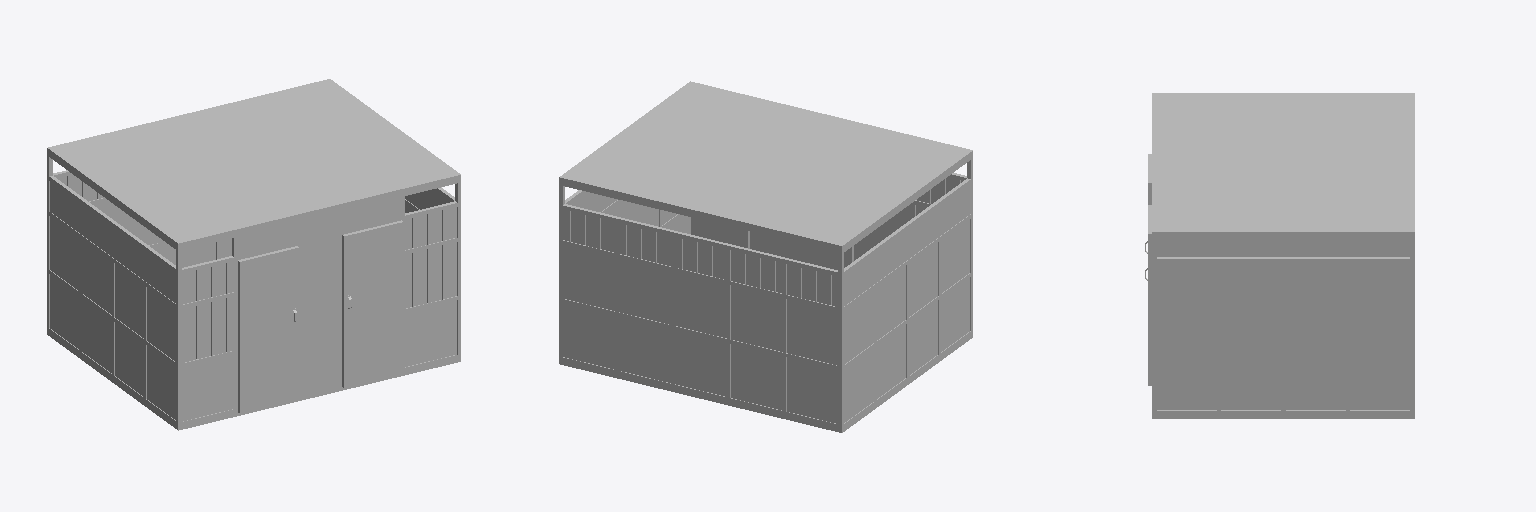
File: separate3.obj
3 renders of one model, left to right at view 1: azimuth 30°, elevation 25°; view 2: azimuth 150°, elevation 25°; view 3: azimuth 270°, elevation 25°, orthographic.
Parts seen in each view (by area): view 1: Mesh15 Group15 Model, Mesh42 Group42 Model, Mesh43 Group43 Model, Mesh44 Group44 Model, Mesh31 Group31 Model, Mesh8 Group8 Model, Mesh41 Group41 Model, Mesh12 Group12 Model, Mesh2 Group2 Model, Mesh49 Group49 Model, Mesh1 Group1 Model, Mesh51 Group51 Model (+11 smaller); view 2: Mesh15 Group15 Model, Mesh31 Group31 Model, Mesh6 Group6 Model, Mesh5 Group5 Model, Mesh7 Group7 Model, Mesh14 Group14 Model, Mesh4 Group4 Model, Mesh21 Group21 Model, Mesh23 Group23 Model, Mesh20 Group20 Model, Mesh22 Group22 Model, Mesh19 Group19 Model (+18 smaller); view 3: Mesh15 Group15 Model, Mesh40 Group40 Model, Mesh10 Group10 Model, Mesh11 Group11 Model, Mesh9 Group9 Model, Mesh53 Group53 Model, Mesh17 Group17 Model, Mesh24 Group24 Model, Mesh18 Group18 Model, Mesh54 Group54 Model, Mesh38 Group38 Model, Mesh51 Group51 Model (+6 smaller).
Boxes of the visible parts, box(x1,y1,x2,y2) form: Mesh15 Group15 Model: box(47, 79, 460, 247); Mesh42 Group42 Model: box(238, 246, 299, 413); Mesh43 Group43 Model: box(342, 220, 403, 387); Mesh44 Group44 Model: box(298, 235, 341, 396); Mesh31 Group31 Model: box(50, 181, 175, 302); Mesh8 Group8 Model: box(182, 350, 237, 425); Mesh41 Group41 Model: box(232, 196, 404, 256); Mesh12 Group12 Model: box(404, 296, 457, 371); Mesh2 Group2 Model: box(144, 340, 181, 426); Mesh49 Group49 Model: box(144, 281, 181, 363); Mesh1 Group1 Model: box(79, 292, 111, 377); Mesh51 Group51 Model: box(112, 316, 143, 400); Mesh15 Group15 Model: box(559, 81, 972, 249); Mesh31 Group31 Model: box(844, 184, 970, 305); Mesh6 Group6 Model: box(671, 325, 726, 400); Mesh5 Group5 Model: box(727, 339, 782, 414); Mesh7 Group7 Model: box(559, 298, 614, 373); Mesh14 Group14 Model: box(615, 312, 670, 387); Mesh4 Group4 Model: box(783, 353, 837, 427); Mesh21 Group21 Model: box(615, 253, 670, 324); Mesh23 Group23 Model: box(559, 240, 614, 310); Mesh20 Group20 Model: box(727, 281, 782, 351); Mesh22 Group22 Model: box(671, 267, 726, 337); Mesh19 Group19 Model: box(783, 294, 837, 365); Mesh15 Group15 Model: box(1152, 93, 1414, 234); Mesh40 Group40 Model: box(1157, 263, 1409, 293); Mesh10 Group10 Model: box(1281, 352, 1345, 414); Mesh11 Group11 Model: box(1152, 352, 1216, 414); Mesh9 Group9 Model: box(1346, 352, 1409, 414); Mesh53 Group53 Model: box(1217, 352, 1280, 414); Mesh17 Group17 Model: box(1281, 294, 1345, 351); Mesh24 Group24 Model: box(1152, 294, 1216, 351); Mesh18 Group18 Model: box(1346, 294, 1409, 351); Mesh54 Group54 Model: box(1217, 294, 1280, 351); Mesh38 Group38 Model: box(1157, 257, 1409, 262); Mesh51 Group51 Model: box(1221, 239, 1285, 256).
Bounding box in the file's own units: 3800 × 2400 × 3132.